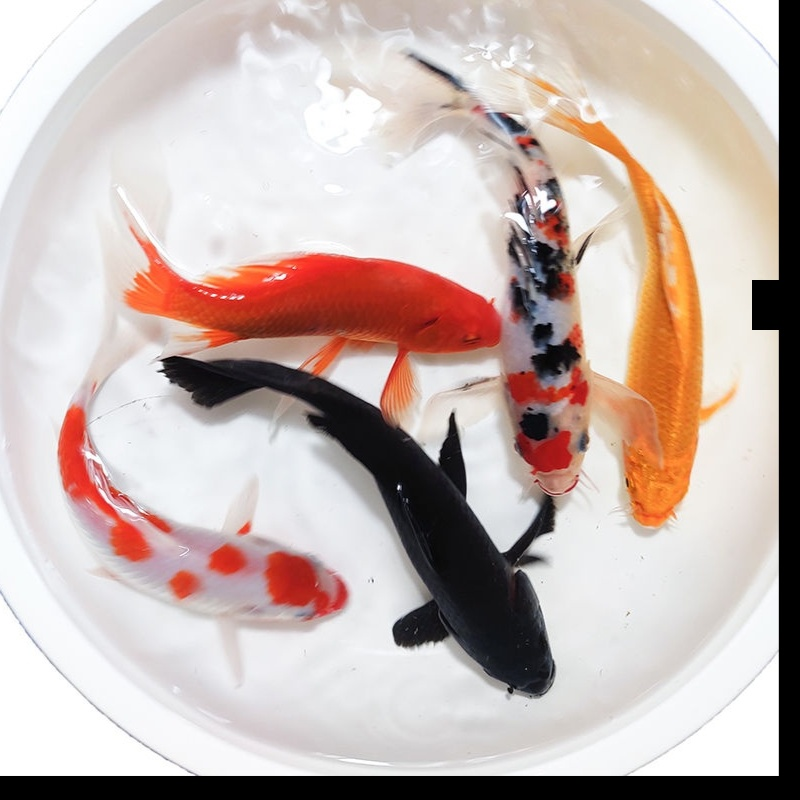fry: (321, 347, 574, 704), (576, 88, 766, 534), (47, 414, 355, 638), (464, 111, 607, 517), (117, 228, 512, 362)
